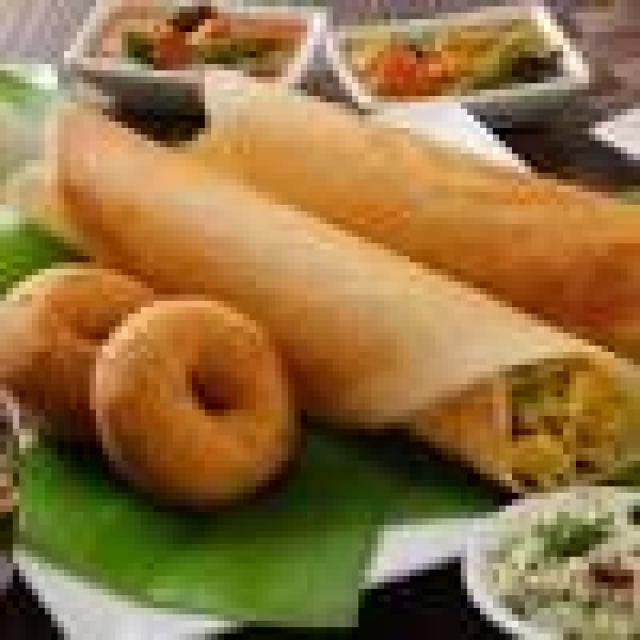Wet Waste: (19, 90, 634, 480), (154, 51, 634, 326), (467, 480, 634, 634)
